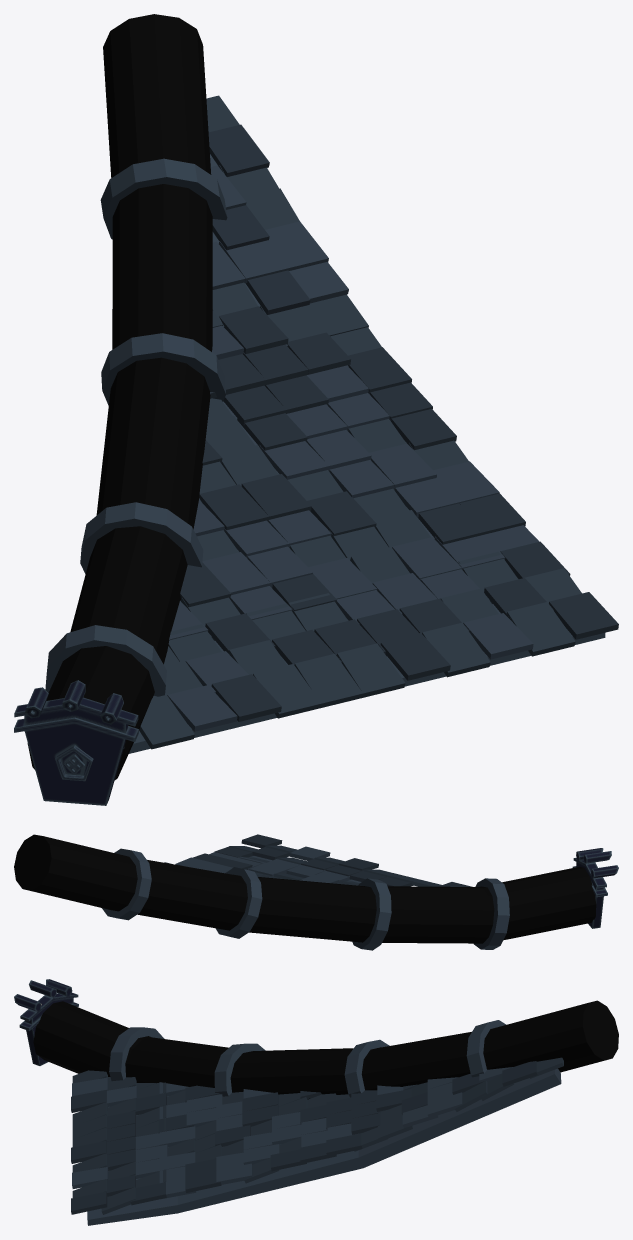
The model's file is Roof_Tile03_JP.fbx.
3 views of the same model, one above another, from view 1: azimuth 30°, elevation 25°; view 2: azimuth 150°, elevation 25°; view 3: azimuth 270°, elevation 25° (orthographic). The views are drawn at different scales.
Visible parts, largest first — view 1: Roof_Tile03_JP_LOD0; view 2: Roof_Tile03_JP_LOD0; view 3: Roof_Tile03_JP_LOD0.
Part boxes in pixels (x1,y1,x2,y2): Roof_Tile03_JP_LOD0: (14, 14, 618, 805); Roof_Tile03_JP_LOD0: (14, 834, 618, 950); Roof_Tile03_JP_LOD0: (14, 979, 618, 1225).
Size of what is drawn, in the model's own units: 630 by 353 by 873.
